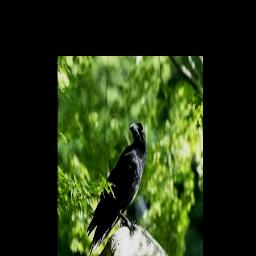Crow: (86, 120, 147, 256)
